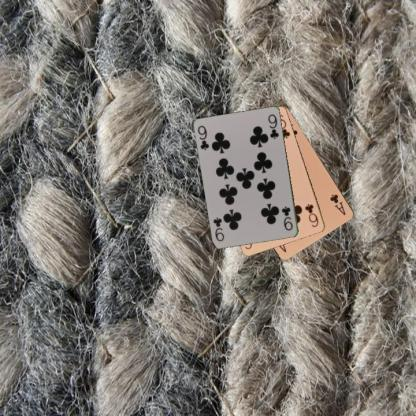6c: (302, 201, 320, 228)
9c: (279, 204, 294, 232), (196, 123, 210, 151)
Ac: (327, 191, 347, 217)
